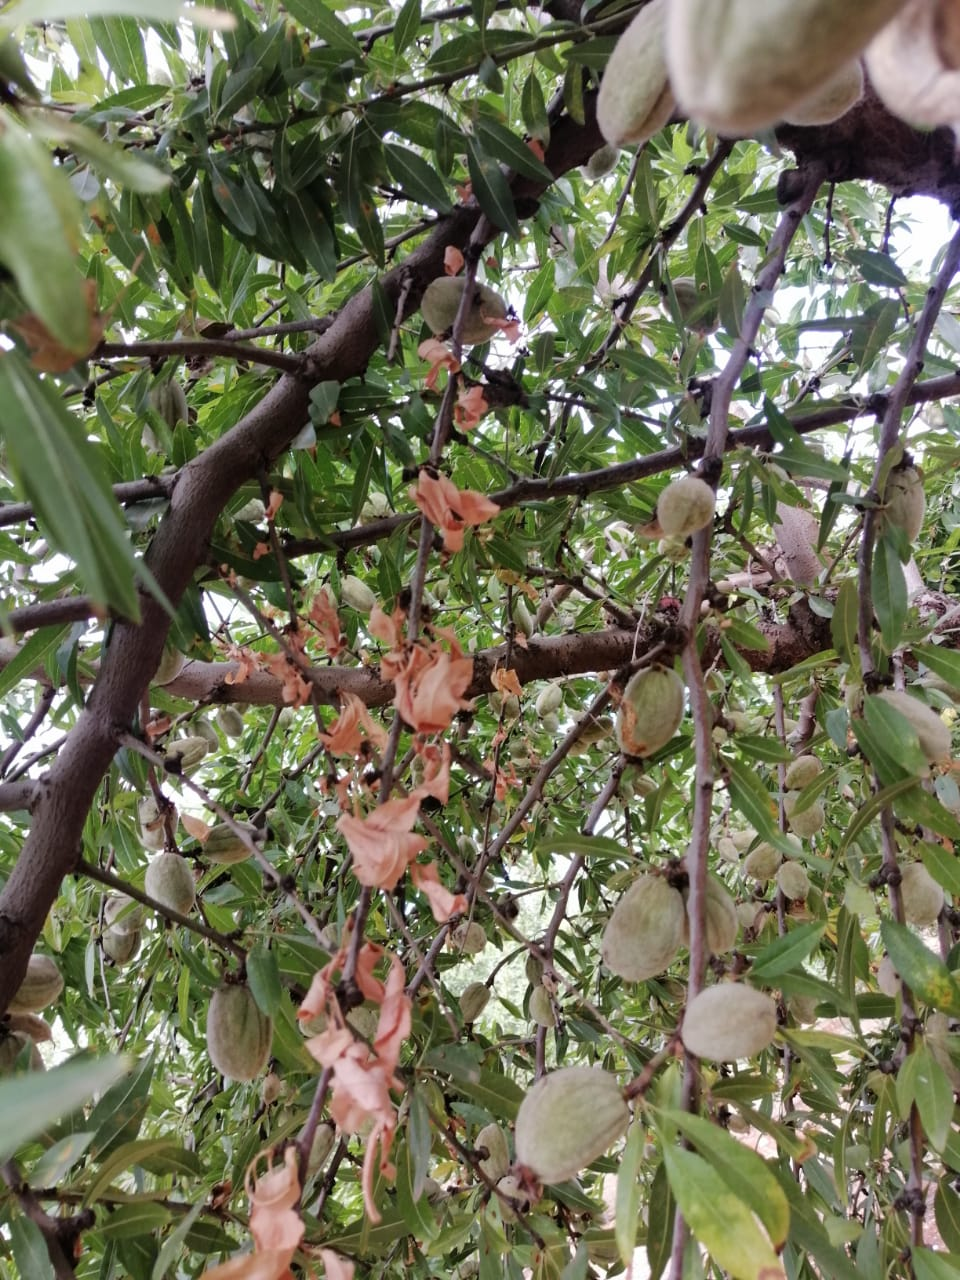chancre fusicocum: (210, 241, 501, 1280)
